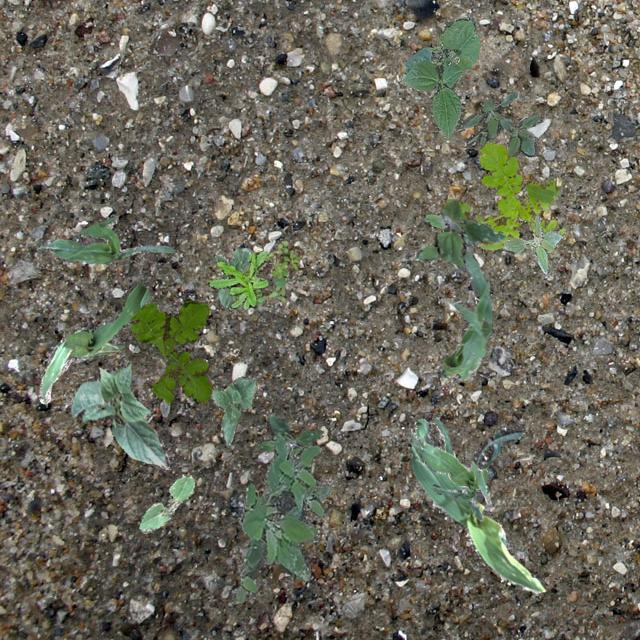crop: (410, 418, 544, 592), (38, 282, 148, 403), (70, 362, 170, 468), (398, 17, 479, 138), (408, 416, 490, 520), (438, 238, 492, 379), (41, 215, 172, 262), (138, 473, 194, 532), (210, 376, 254, 444), (215, 246, 252, 308)
weed: (230, 432, 332, 602), (444, 142, 564, 248), (128, 300, 212, 402), (416, 200, 504, 270), (456, 90, 544, 156), (206, 250, 266, 308), (502, 215, 562, 272), (254, 240, 300, 300), (256, 414, 322, 454)
